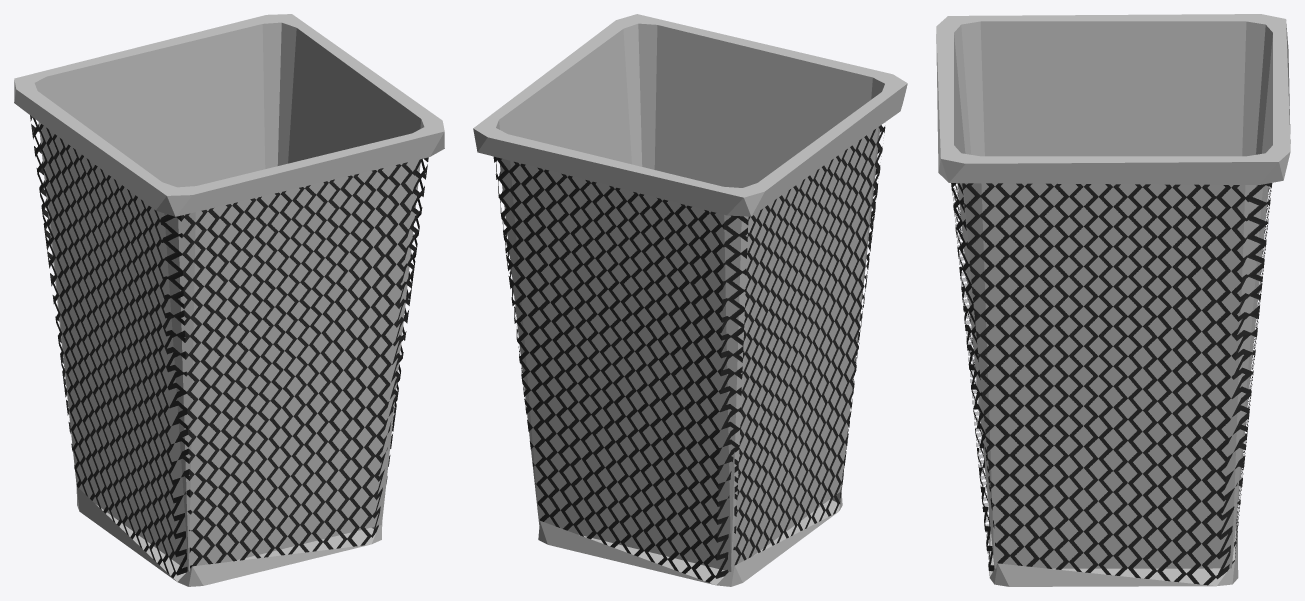
The model's file is SquareTrashCan_LOD1.fbx.
The picture shows the model from 3 angles, left to right: view 1: azimuth 30°, elevation 25°; view 2: azimuth 150°, elevation 25°; view 3: azimuth 270°, elevation 25°; orthographic projection. The views are drawn at different scales.
Parts seen in each view (by area): view 1: Cube; view 2: Cube; view 3: Cube.
Boxes of the visible parts, x1=… form: Cube: x1=14, y1=14, x2=444, y2=586; Cube: x1=473, y1=14, x2=907, y2=586; Cube: x1=936, y1=14, x2=1290, y2=586.
Bounding box in the file's own units: 72 × 99.8 × 72.
